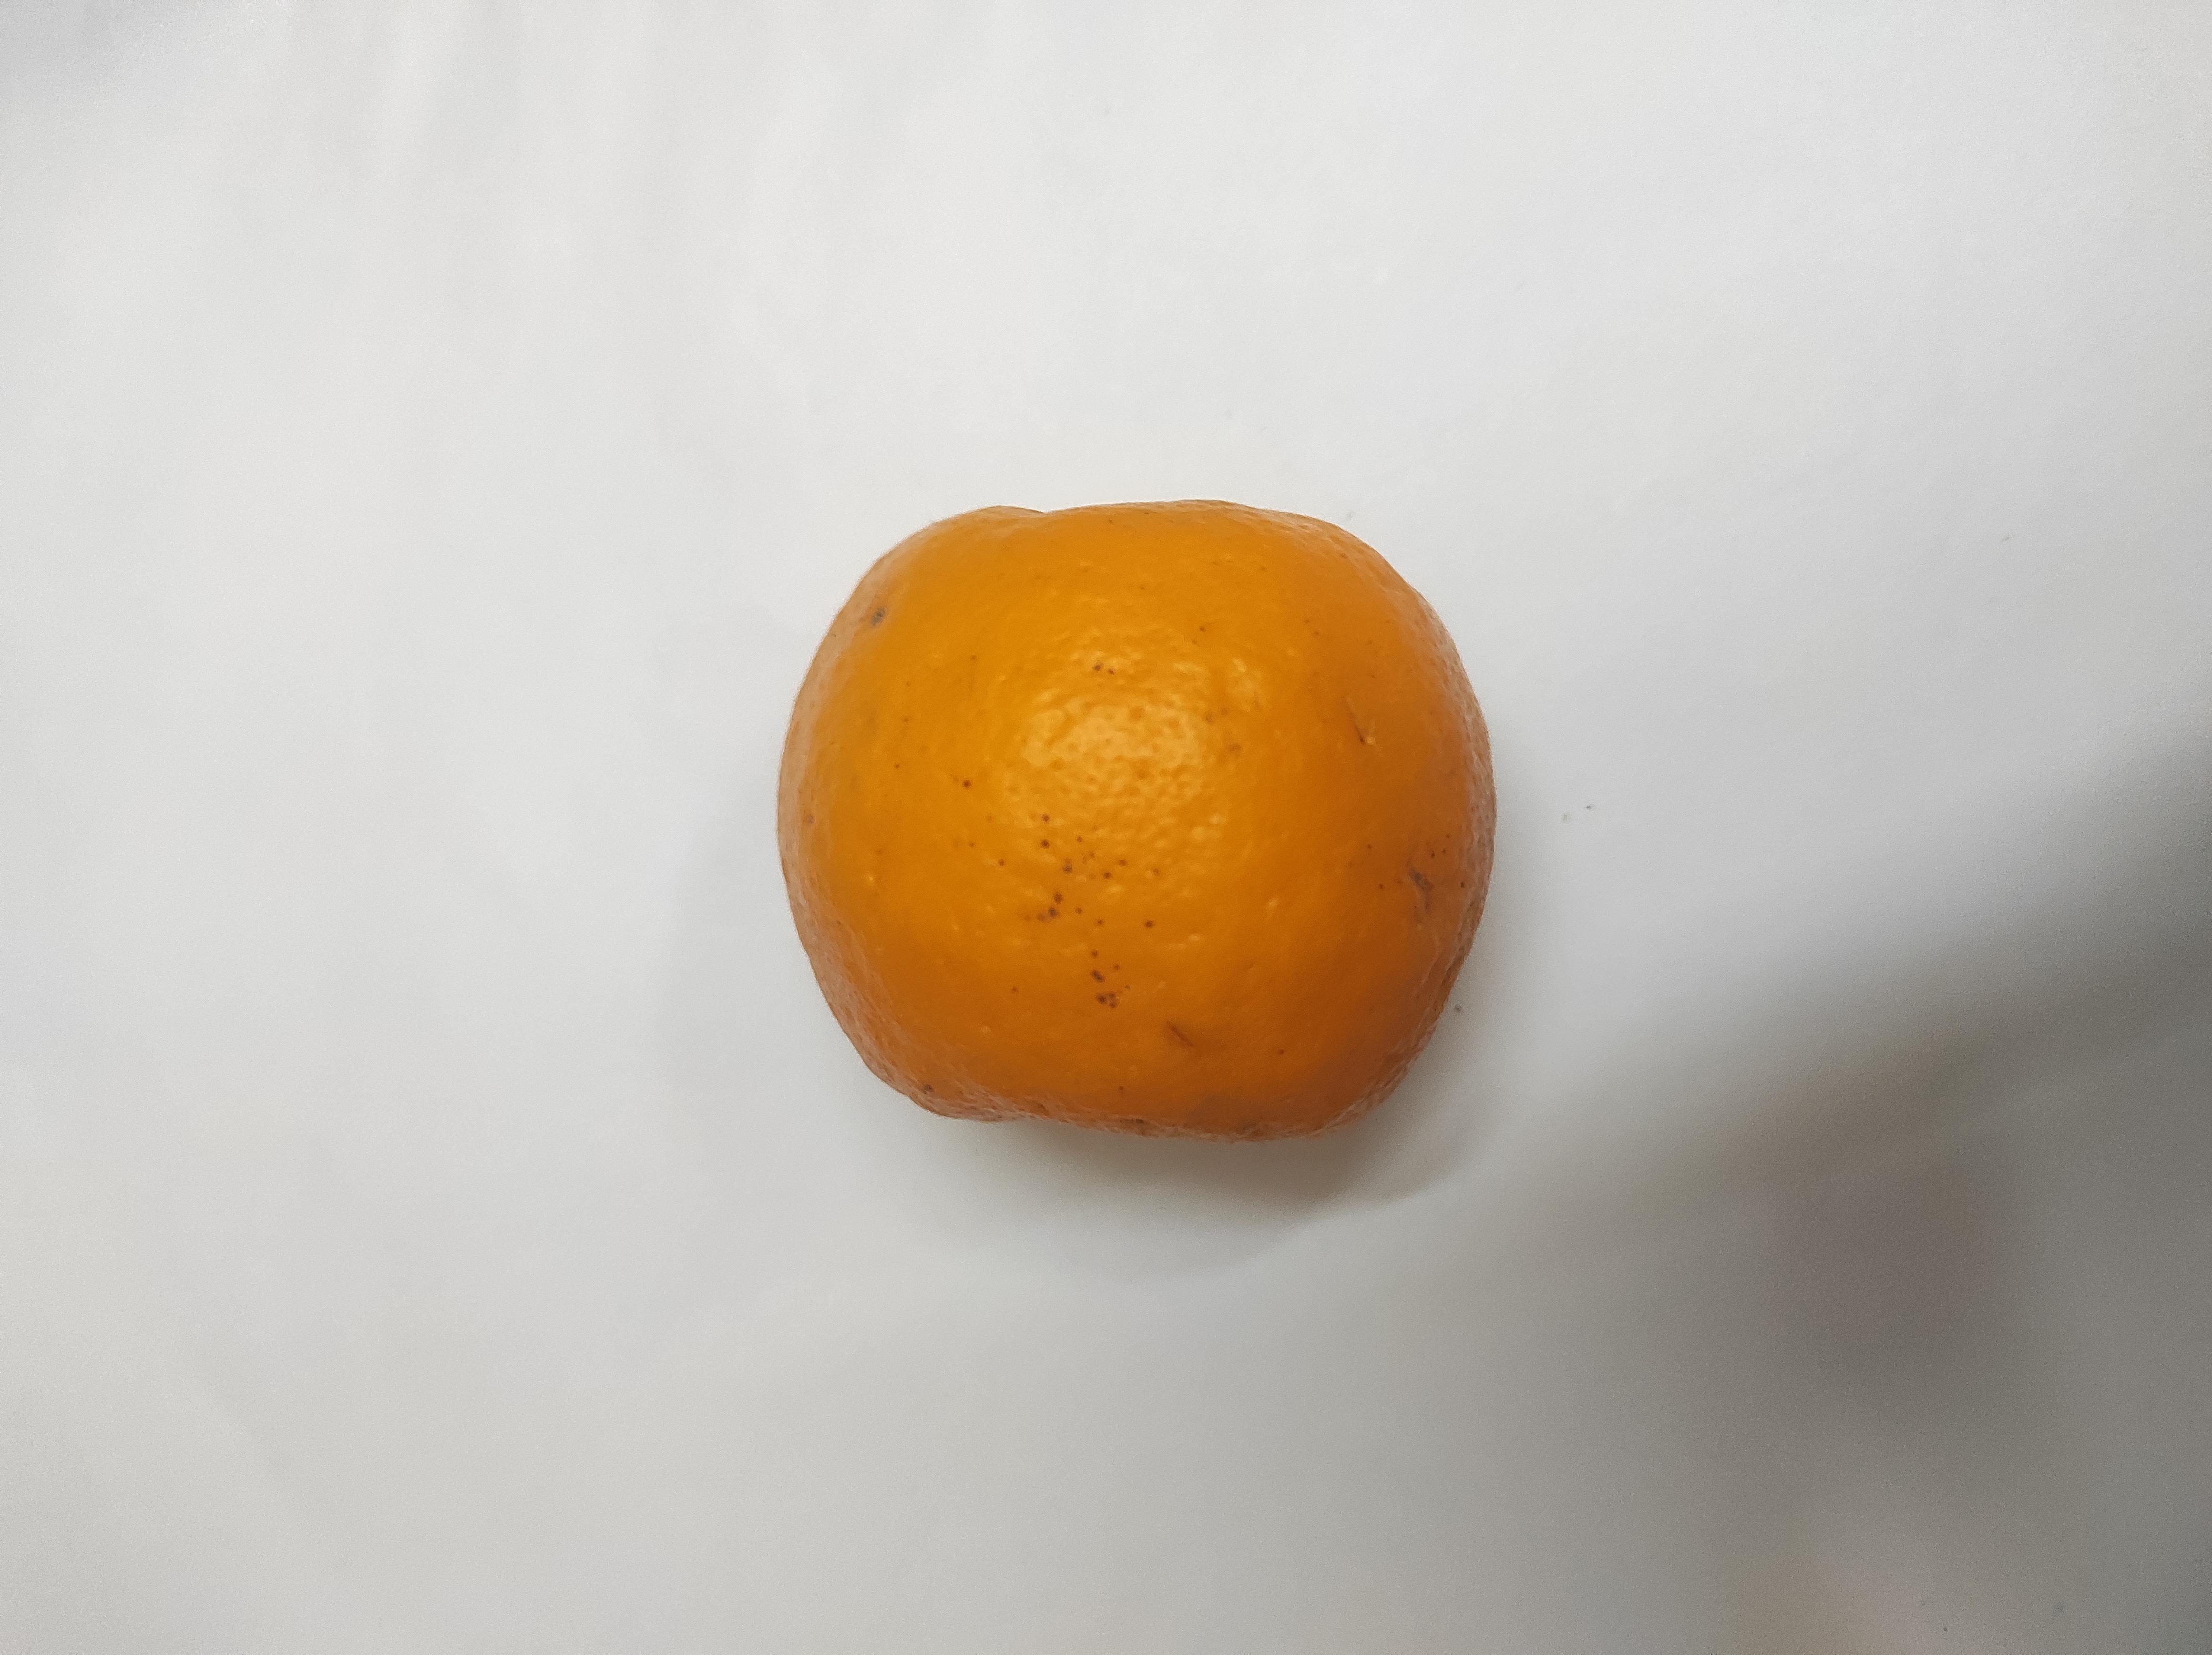Unripe: (783, 501, 1497, 1135)
